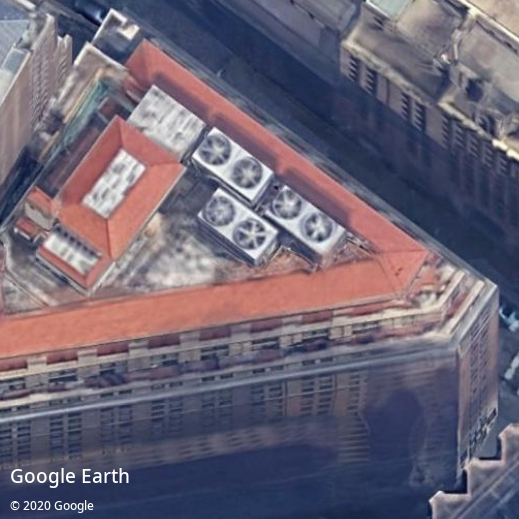Vent: (200, 134, 231, 165), (232, 158, 263, 189), (205, 196, 235, 227), (234, 219, 265, 248), (274, 190, 303, 220), (304, 213, 333, 242)
